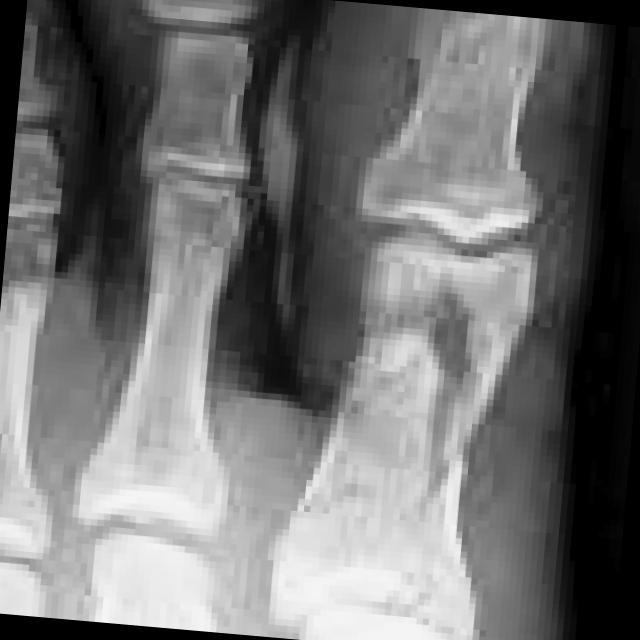Comminuted Fracture: (262, 33, 334, 336), (386, 259, 520, 405)
